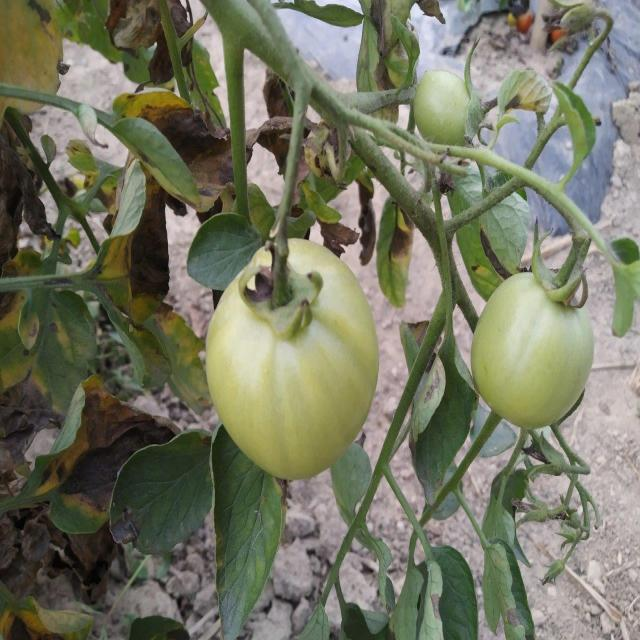Unripe: (207, 236, 378, 478), (471, 267, 595, 432)
